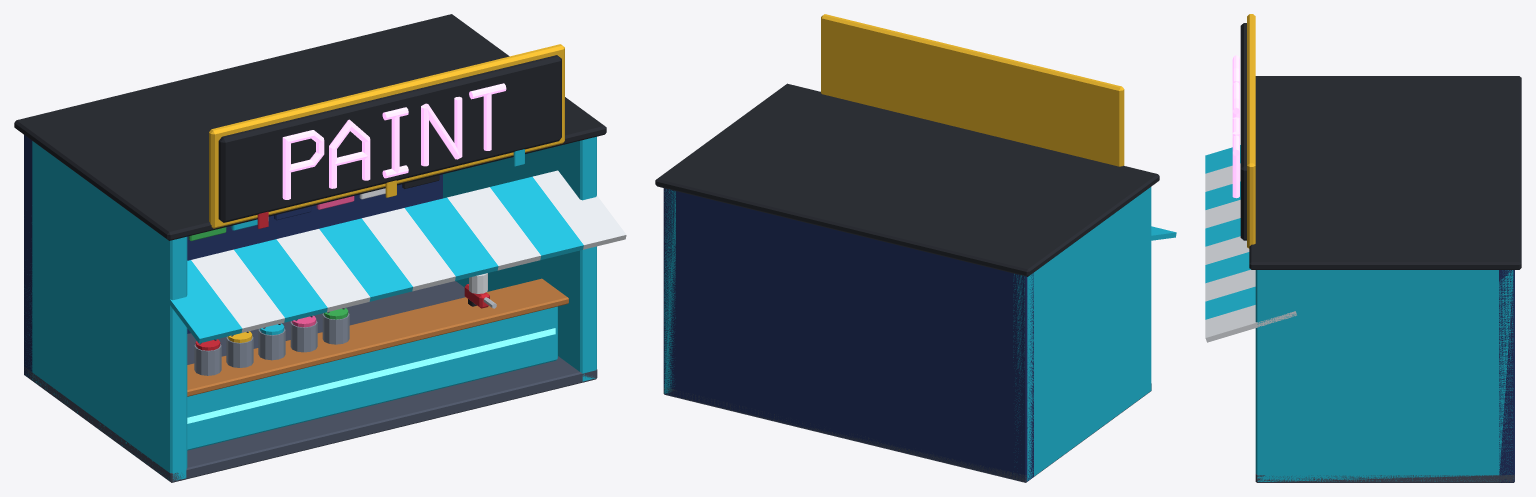
File: Booth_Paint.fbx
3 views of the same model, side by side, from view 1: azimuth 30°, elevation 25°; view 2: azimuth 150°, elevation 25°; view 3: azimuth 270°, elevation 25° (orthographic). The views are drawn at different scales.
Parts seen in each view (by area): view 1: Booth_Paint, Neon_Pink, Neon_Cyan; view 2: Booth_Paint; view 3: Booth_Paint, Neon_Pink.
Boxes of the visible parts, x1,y1,x2,y2 form: Booth_Paint: (14, 14, 626, 482); Neon_Pink: (282, 83, 506, 199); Neon_Cyan: (187, 328, 555, 423); Booth_Paint: (655, 14, 1176, 482); Booth_Paint: (1205, 14, 1521, 482); Neon_Pink: (1232, 55, 1239, 198).
Bounding box in the file's own units: 20.6 × 15.5 × 14.63.
Materials: 3 (1 with a texture image).
